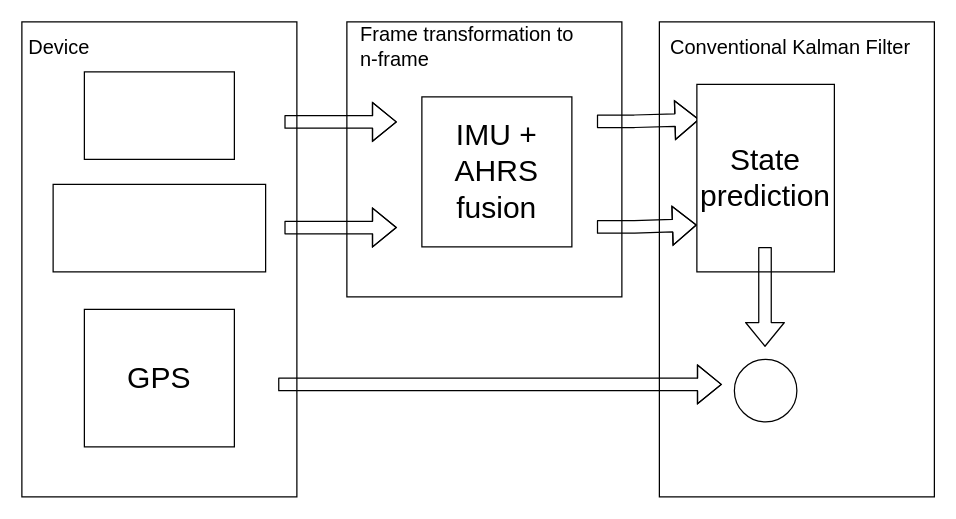
The diagram is 956 pixels wide and 519 high, and some of its shapes have lost their labels. Each missing label, with the box of its shape:
IMU: (83, 71, 234, 159)
Magnetometer: (52, 183, 266, 272)
